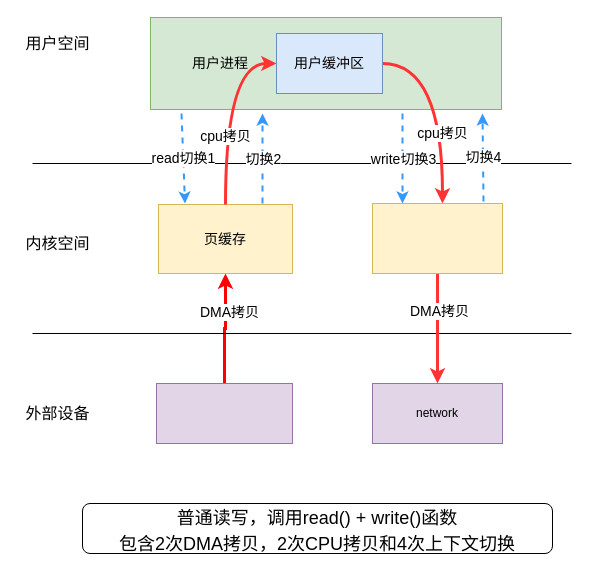
Some shapes in this 590 by 572 pixel diagram are drawn without their labels. Each missing label, with the centre of its shape:
disk: [224,413]
socket缓存: [437,238]
